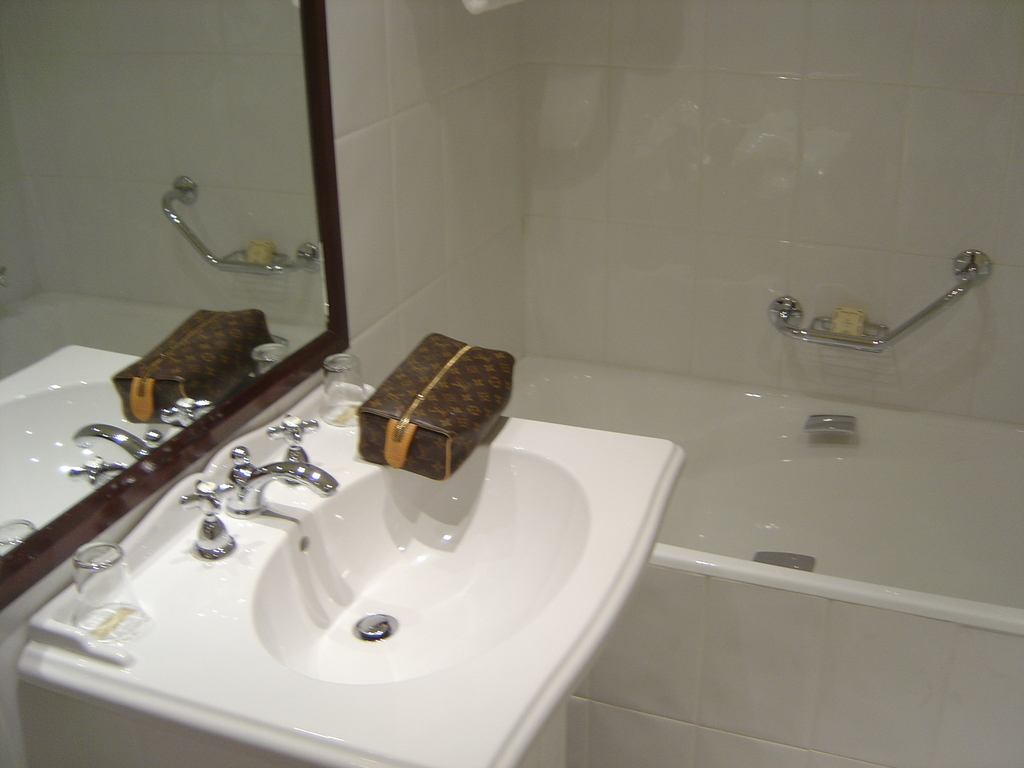tap: (225, 440, 337, 515)
